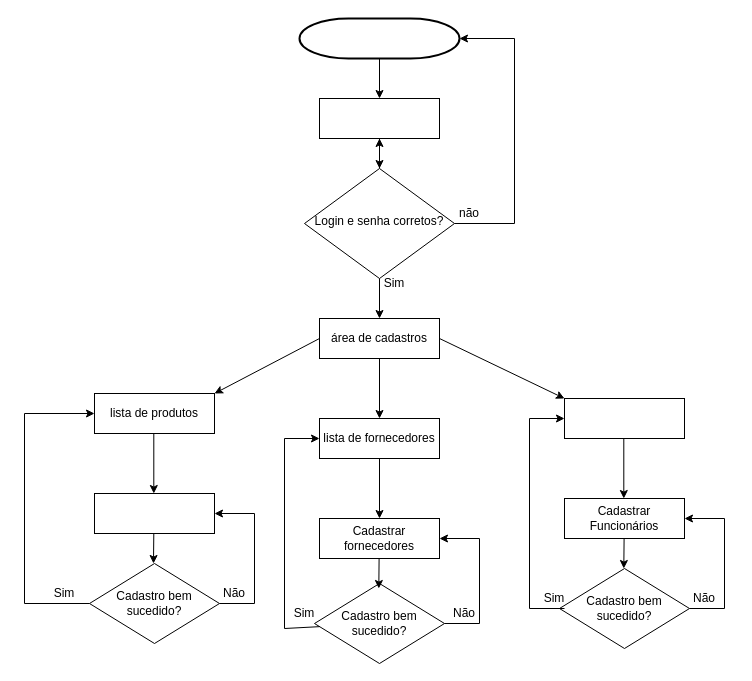
Image size: 752x681. Some labels were removed from this diagram. Here are the shapes that lost their labels. From the top down, the centre of each, then its label:
(x=379, y=38): Inicio
(x=379, y=118): colocar login e senha
(x=624, y=418): lista de funcionários
(x=154, y=513): Cadastrar produtos
